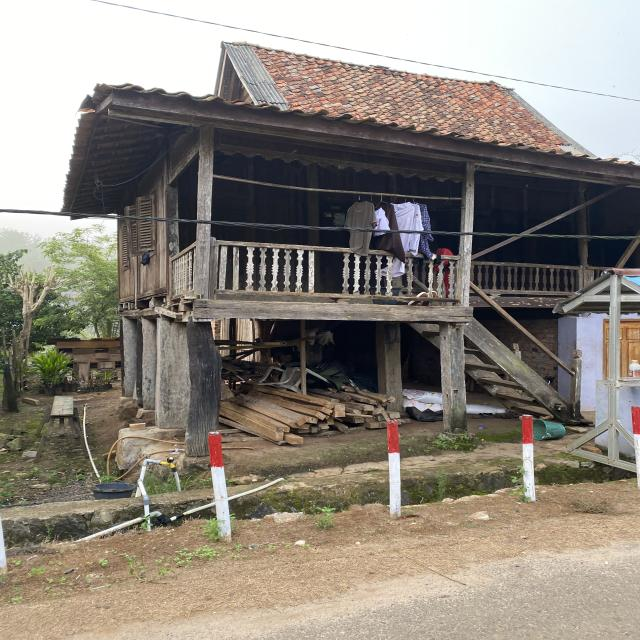Atap: (59, 41, 639, 220)
Tangga: (407, 322, 575, 422)
Tembok Bangunan: (118, 127, 639, 311)
